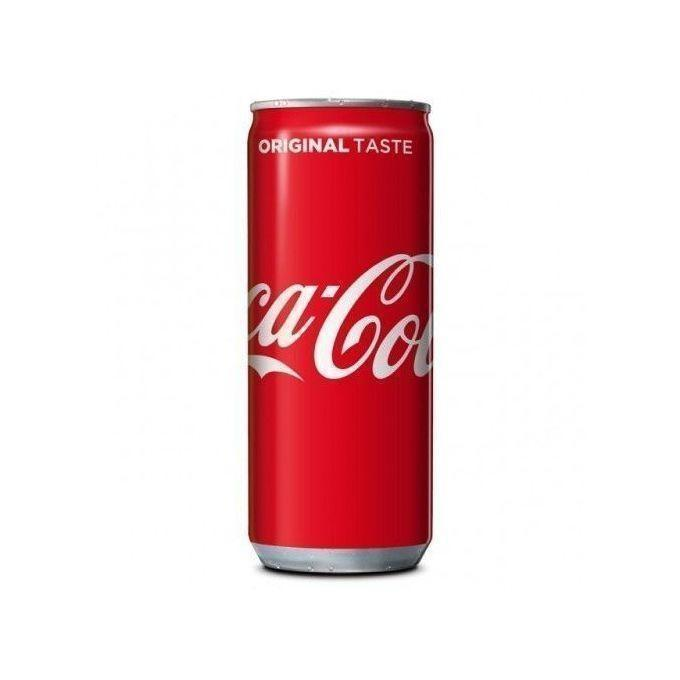tin can: (244, 94, 441, 583)
